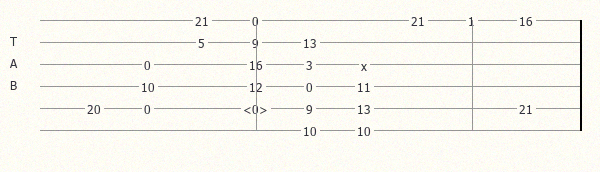0: (144, 58, 155, 71), (144, 102, 155, 115), (252, 14, 263, 27), (306, 80, 317, 93)
1: (468, 14, 479, 27)
10: (141, 80, 159, 93), (303, 124, 321, 137), (357, 124, 375, 137)
11: (357, 80, 375, 93)
12: (249, 80, 267, 93)
13: (303, 36, 321, 49), (357, 102, 375, 115)
16: (249, 58, 267, 71), (519, 14, 537, 27)
20: (87, 102, 105, 115)
21: (195, 14, 213, 27), (411, 14, 429, 27), (519, 102, 537, 115)
3: (306, 58, 317, 71)
5: (198, 36, 209, 49)
9: (252, 36, 263, 49), (306, 102, 317, 115)
harmonic: (243, 102, 272, 115)
x: (361, 59, 371, 70)
